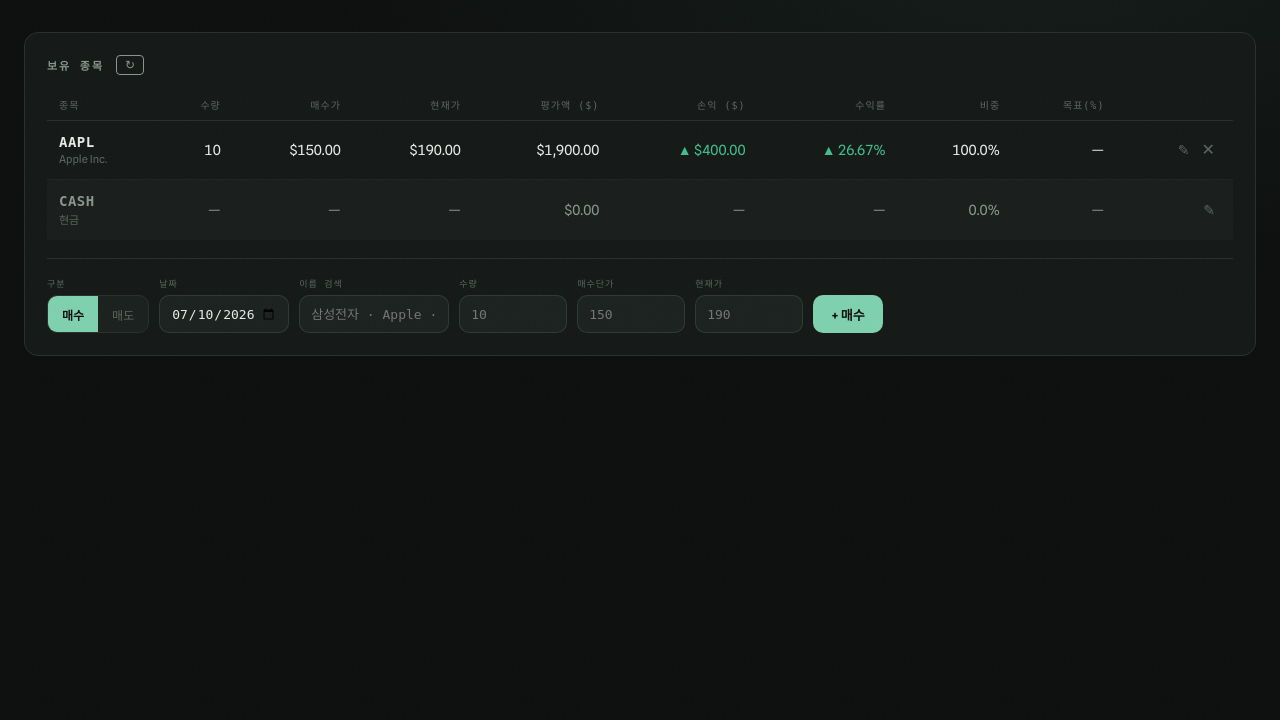
Test: HoldingsTable › ✎ 버튼 클릭 시 EditModal 표시
Click the button titled "수정" in the row of "AAPL" at (1184, 150), box [1172,140,1196,160]
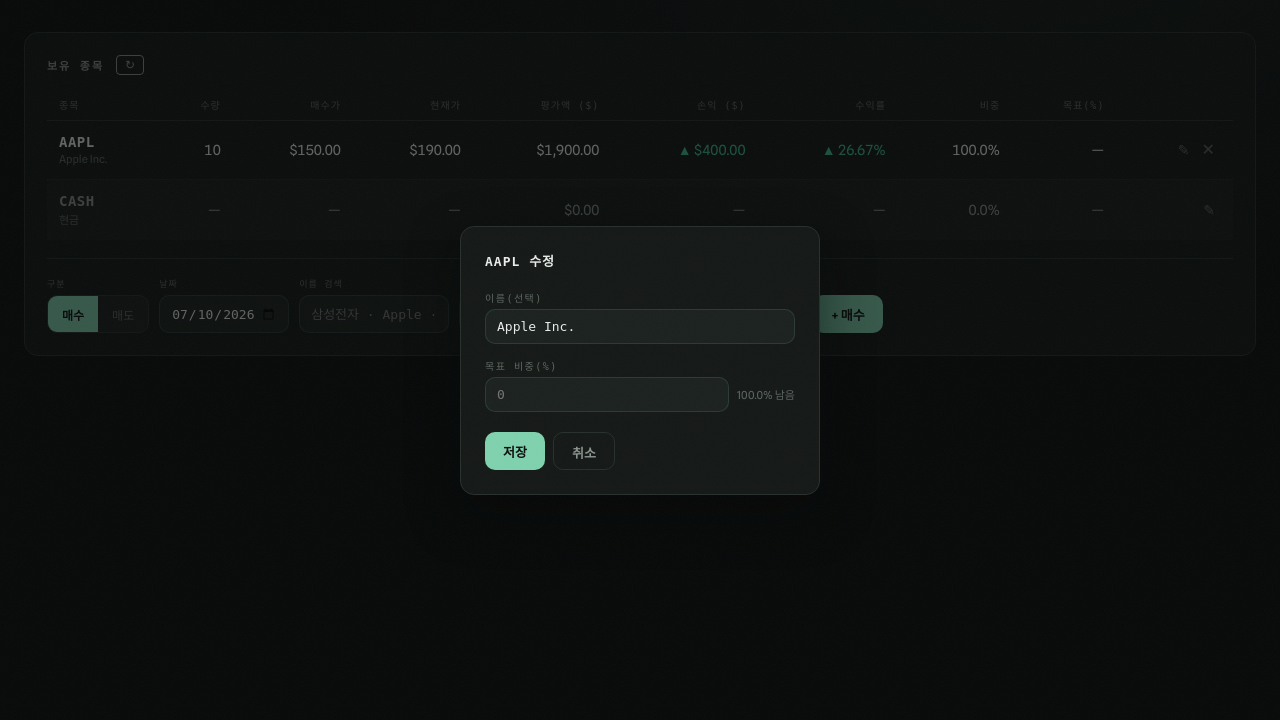
Now the heading "AAPL 수정" is shown, box [485,254,555,268]
